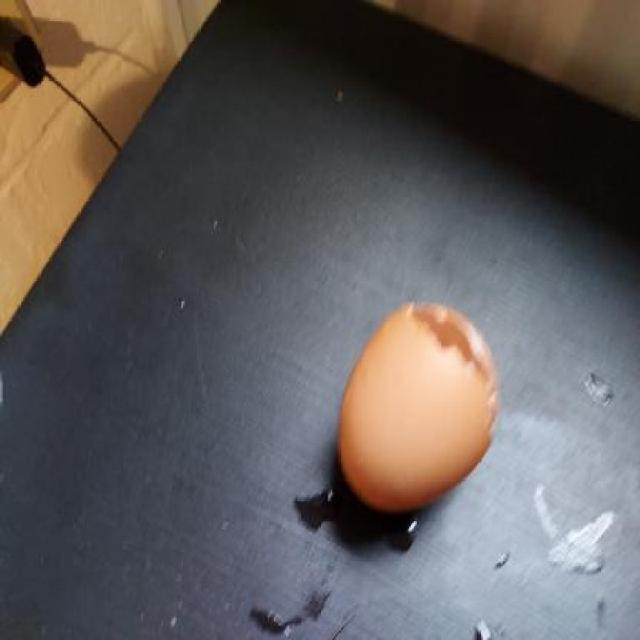biodegradable: (335, 298, 500, 530)
